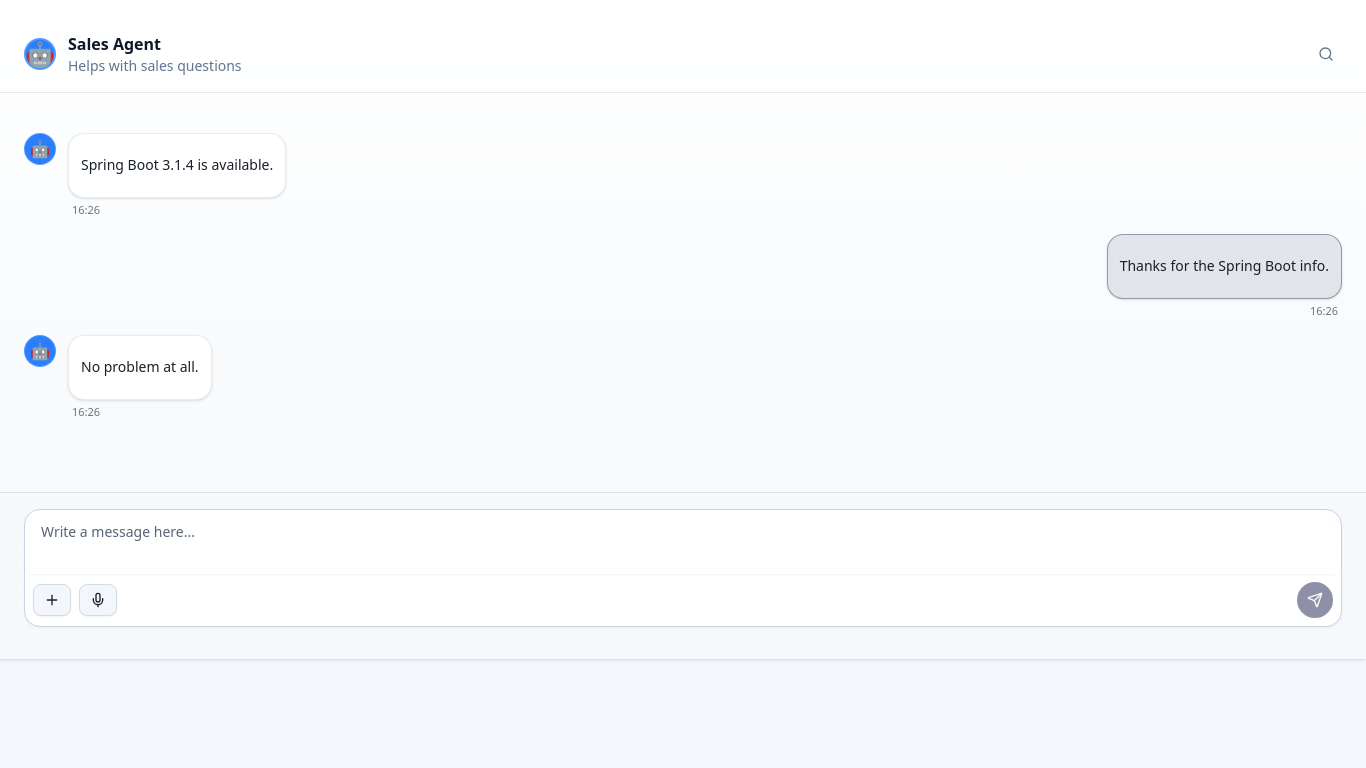
Test: ChatInterface › search bar › opens the search bar when the search icon button is clicked
Check: the field with placeholder "Search in conversation..." is not shown
Click the 1st button. click: [1326, 54]
box: [1310,38,1342,70]
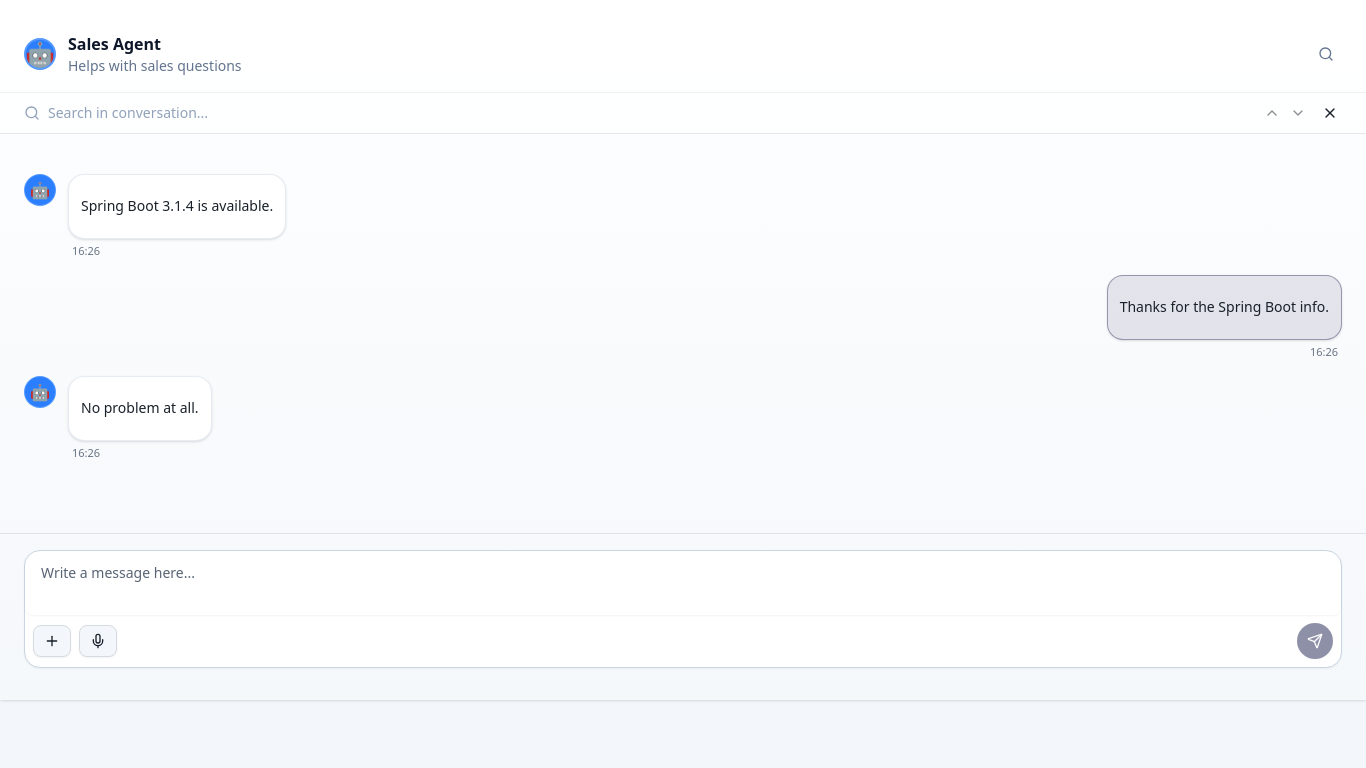
Check: the field with placeholder "Search in conversation..." is shown, box [48,103,1252,123]
